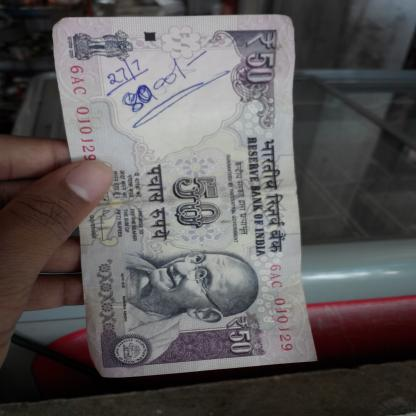Old50Front: (53, 14, 318, 378)
